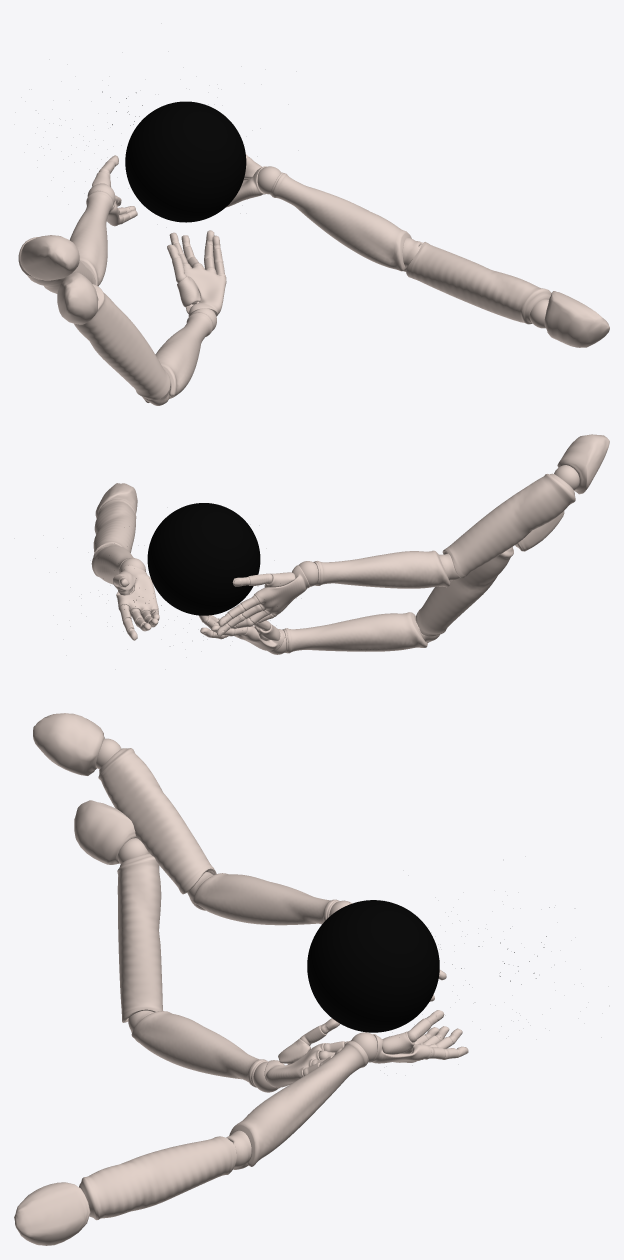
File: GLTF.glb
3 renders of one model, top to bottom at view 1: azimuth 30°, elevation 25°; view 2: azimuth 150°, elevation 25°; view 3: azimuth 270°, elevation 25°, orthographic. The views are drawn at different scales.
Parts seen in each view (by area): view 1: LeftShoulder, BALL; view 2: LeftShoulder, BALL; view 3: LeftShoulder, BALL.
Part boxes in pixels (<box>): LeftShoulder: <box>18,154,609,405</box>; BALL: <box>125,101,246,222</box>; LeftShoulder: <box>91,434,609,654</box>; BALL: <box>147,503,260,615</box>; LeftShoulder: <box>14,713,468,1245</box>; BALL: <box>307,900,439,1032</box>.
Bounding box in the file's own units: 109 × 43.67 × 92.77.
Materials: 3 (1 with a texture image).
